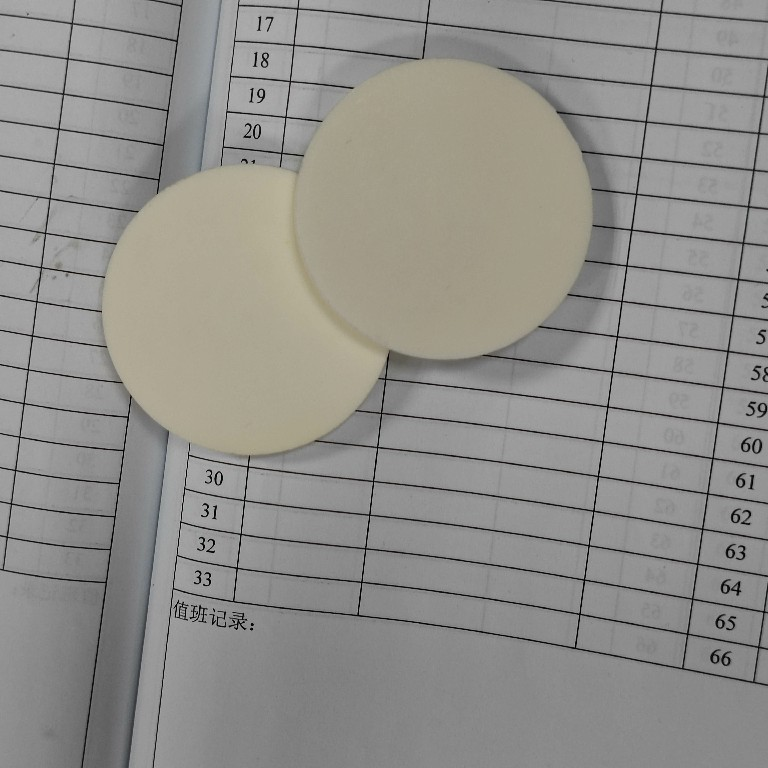ceramics: (96, 56, 600, 466)
